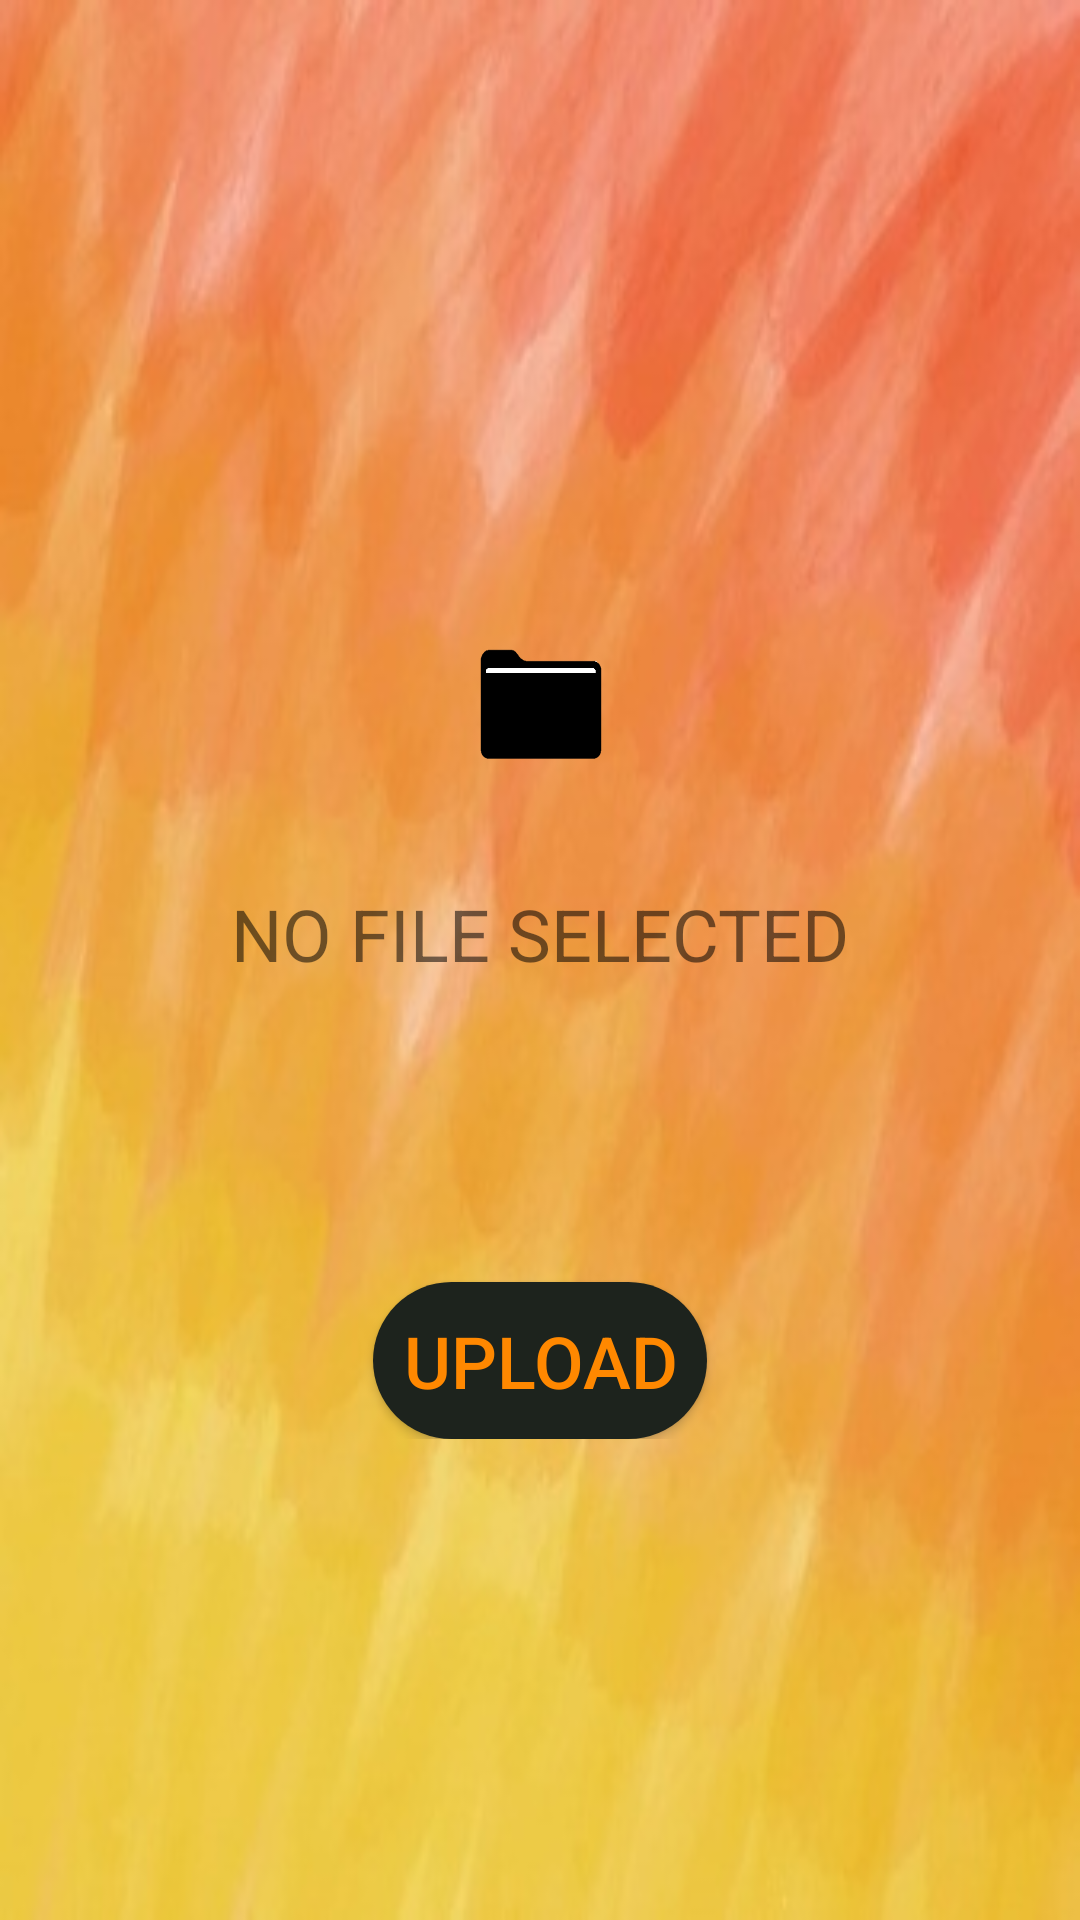

Where icons sit on this 1080x1920 app screen, as [x1,y1,x2,y2]:
select file: [480,649,602,759]
